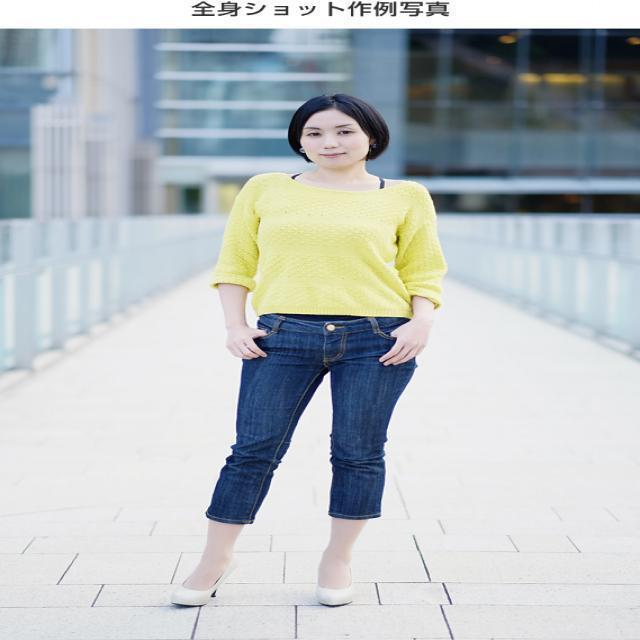direk: (173, 93, 451, 612)
